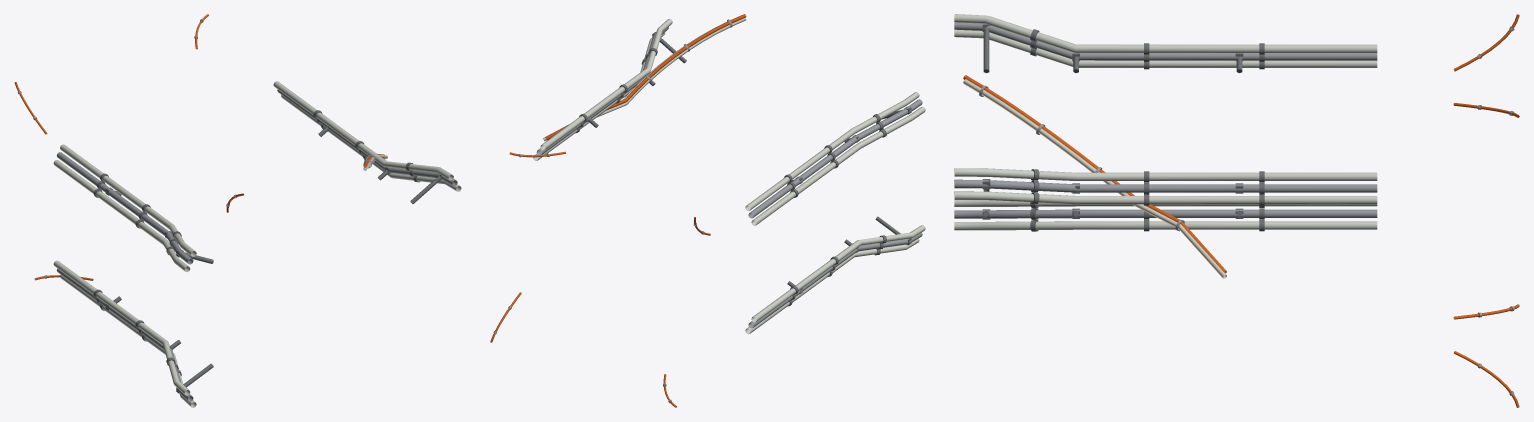
File: u70_pipes.obj
3 views of the same model, side by side, from view 1: azimuth 30°, elevation 25°; view 2: azimuth 150°, elevation 25°; view 3: azimuth 270°, elevation 25° (orthographic). The views are drawn at different scales.
Visible parts, largest first — view 1: u70_pipes; view 2: u70_pipes; view 3: u70_pipes.
Boxes of the visible parts, x1,y1,x2,y2 form: u70_pipes: (14, 14, 461, 407); u70_pipes: (490, 14, 925, 407); u70_pipes: (954, 14, 1519, 407).
Bounding box in the file's own units: 3.73 × 2.74 × 4.41.
